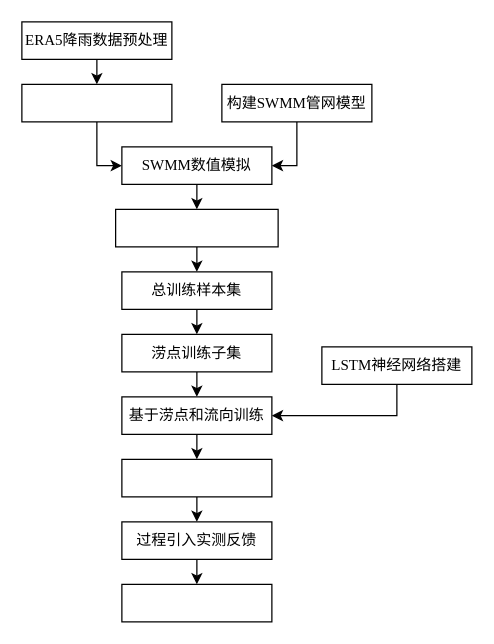
The diagram is 494 pixels wide and 644 high, and some of its shapes have lost their labels. Here are the shapes that lost their labels. From the top down, the centre of each, then its label:
the point at 96,102: 提取3h降雨事件
the point at 196,227: 节点水深模拟结果(N组)
the point at 196,477: 预测未训练样本
the point at 196,602: 精度评价及模型优化
